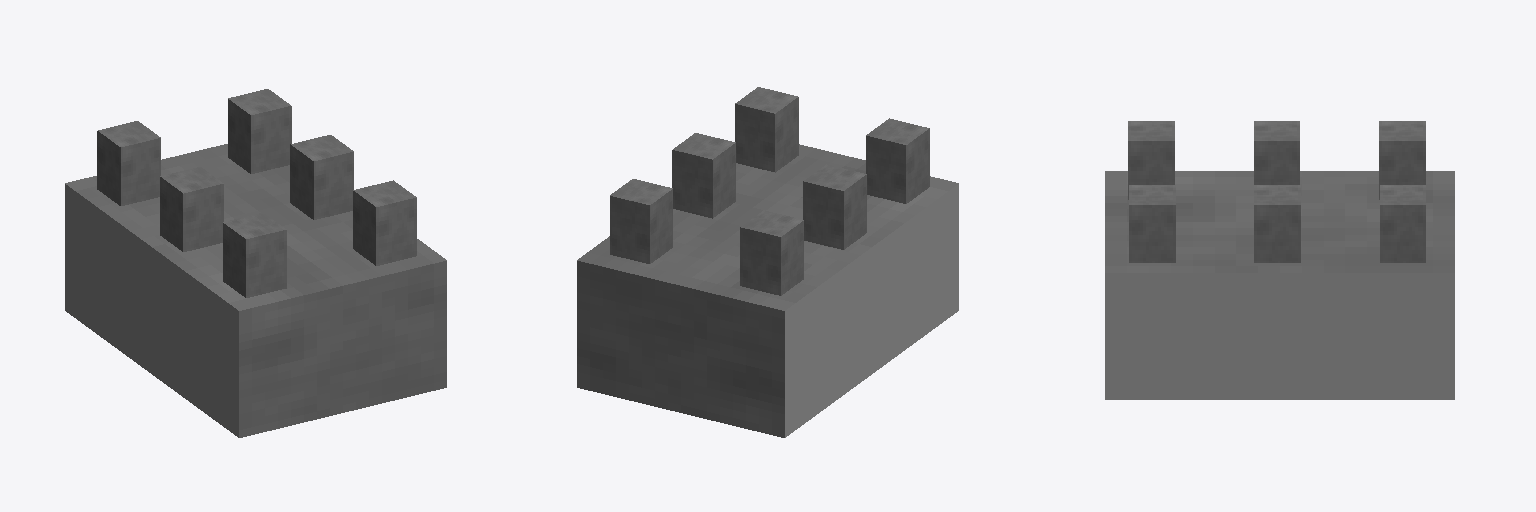
The picture shows the model from 3 angles: view 1: azimuth 30°, elevation 25°; view 2: azimuth 150°, elevation 25°; view 3: azimuth 270°, elevation 25°; orthographic projection.
Visible parts, largest first — view 1: Cube; view 2: Cube; view 3: Cube.
Boxes of the visible parts, box(x1,y1,x2,y2) form: Cube: box(65, 89, 446, 437); Cube: box(577, 87, 958, 437); Cube: box(1105, 121, 1454, 399).
Size of the model in its own units: 0.6603 by 0.5647 by 0.96.
3 materials, 1 textured.